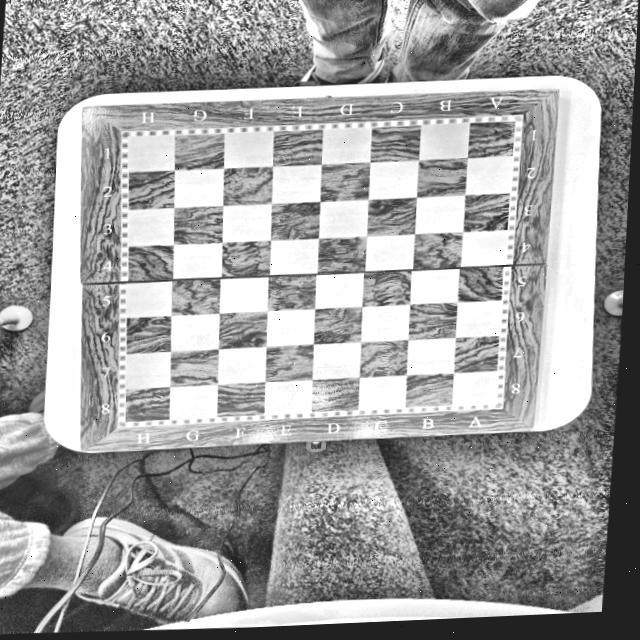chessboard: (119, 114, 525, 428)
p1: (509, 119, 519, 128)
p2: (490, 399, 499, 405)
p3: (121, 417, 132, 424)
p4: (125, 135, 133, 143)
